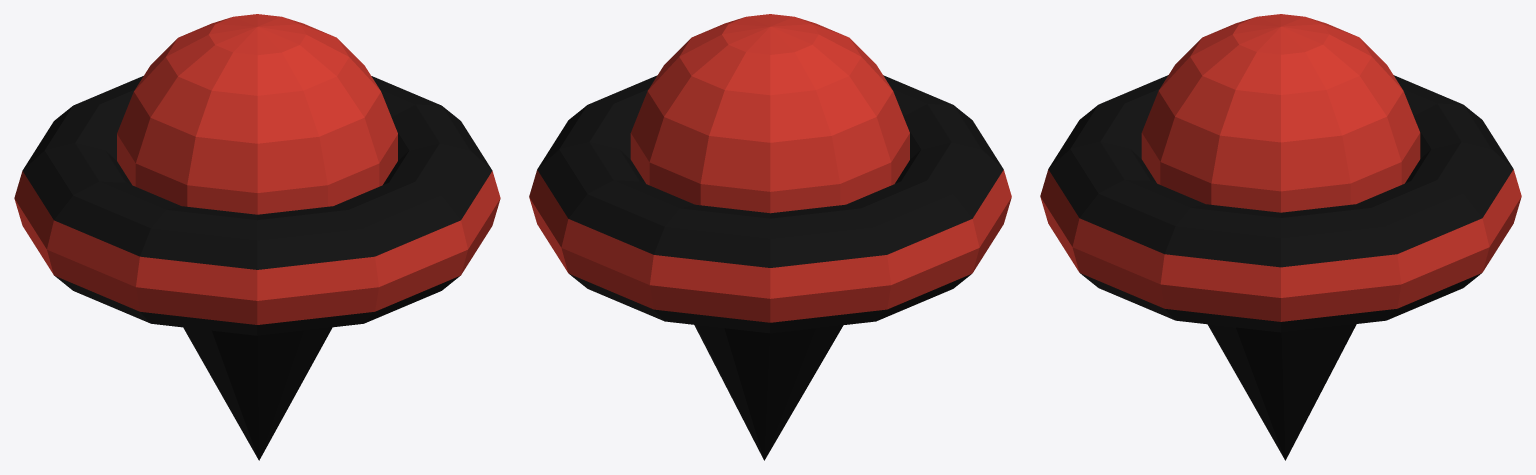
3 views of the same model, side by side, from view 1: azimuth 30°, elevation 25°; view 2: azimuth 150°, elevation 25°; view 3: azimuth 270°, elevation 25° (orthographic).
Parts seen in each view (by area): view 1: node_MeshObject1007934336-PolyPaper23; view 2: node_MeshObject1007934336-PolyPaper23; view 3: node_MeshObject1007934336-PolyPaper23.
Boxes of the visible parts, x1,y1,x2,y2 form: node_MeshObject1007934336-PolyPaper23: [14, 14, 500, 460]; node_MeshObject1007934336-PolyPaper23: [529, 14, 1011, 460]; node_MeshObject1007934336-PolyPaper23: [1040, 14, 1521, 460].
Size of the model in its own units: 1.09 by 1.08 by 1.09.
